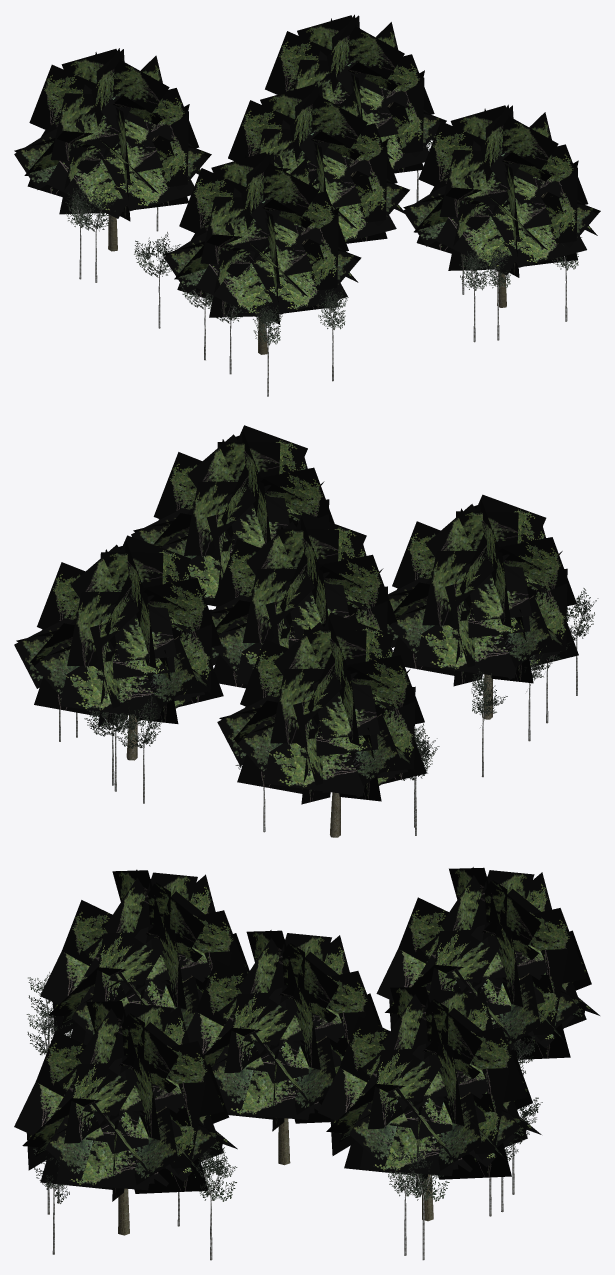
File: trees.DAE
The picture shows the model from 3 angles, top to bottom: view 1: azimuth 30°, elevation 25°; view 2: azimuth 150°, elevation 25°; view 3: azimuth 270°, elevation 25°; orthographic projection. The views are drawn at different scales.
Parts seen in each view (by area): view 1: tree1_5, tree1_4, tree1_3, tree1_1, tree1_2, treeDogwood_6, treeDogwood_7, treeDogwood_10, treeDogwood_12, treeDogwood_11, treeDogwood_13, treeDogwood_5; view 2: tree1_4, tree1_2, tree1_3, tree1_1, tree1_5, treeDogwood_3, treeDogwood_7, treeDogwood_10, treeDogwood_2; view 3: tree1_5, tree1_2, tree1_1, tree1_4, tree1_3, treeDogwood_16, treeDogwood_18, treeDogwood_17, treeDogwood_11, treeDogwood_15.
Boxes of the visible parts, x1,y1,x2,y2 form: tree1_5: (403,104,600,307); tree1_4: (14,48,211,251); tree1_3: (164,151,361,354); tree1_1: (228,83,409,243); tree1_2: (265,14,446,173); treeDogwood_6: (70,186,117,282); treeDogwood_7: (134,232,180,328); treeDogwood_10: (253,299,282,396); treeDogwood_12: (459,249,487,342); treeDogwood_11: (318,288,348,381); treeDogwood_13: (483,247,510,340); treeDogwood_5: (65,186,92,279); tree1_4: (217,612,426,837); tree1_2: (14,535,223,760); tree1_3: (387,494,578,719); tree1_1: (211,512,397,688); tree1_5: (131,425,334,607); treeDogwood_3: (115,695,164,803); treeDogwood_7: (471,668,507,777); treeDogwood_10: (566,588,598,695); treeDogwood_2: (87,684,131,791); tree1_5: (14,1000,237,1235); tree1_2: (318,986,541,1221); tree1_1: (186,930,382,1165); tree1_4: (376,867,599,1059); tree1_3: (40,869,249,1045); treeDogwood_16: (195,1147,237,1260); treeDogwood_18: (406,1151,449,1260); treeDogwood_17: (388,1146,429,1255); treeDogwood_11: (26,1008,72,1054); treeDogwood_15: (33,1148,69,1254).
Bounding box in the file's own units: 24.08 × 26.23 × 11.75.
2 materials, 2 textured.
